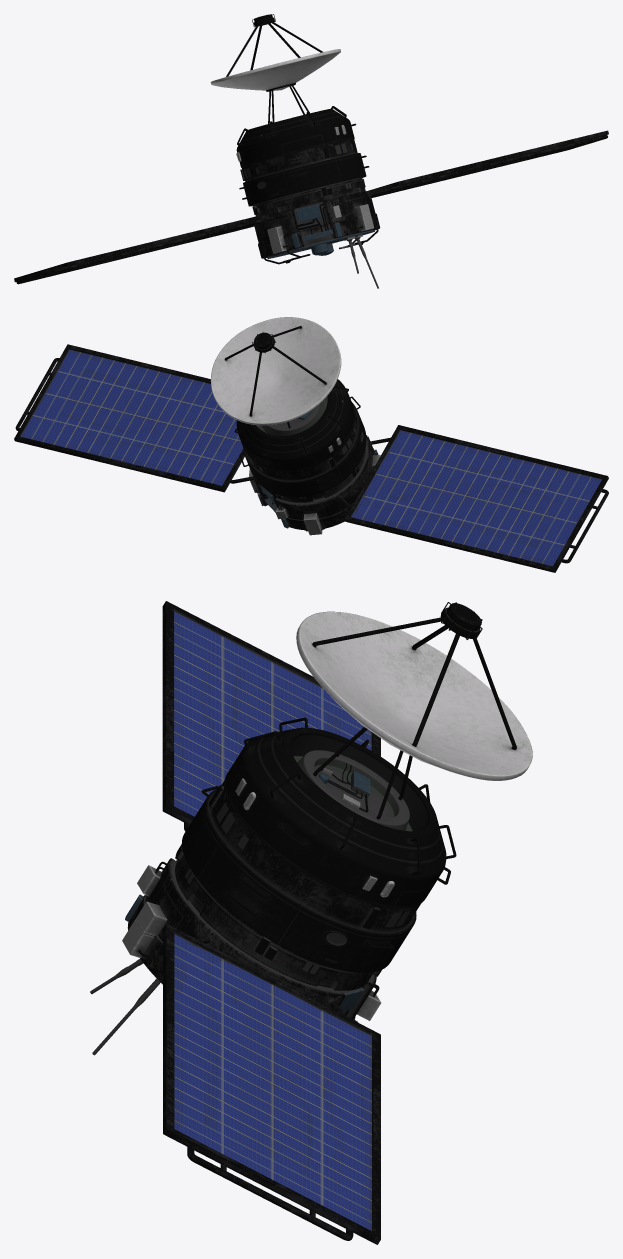
File: voyager.glb
3 renders of one model, top to bottom at view 1: azimuth 30°, elevation 25°; view 2: azimuth 150°, elevation 25°; view 3: azimuth 270°, elevation 25°, orthographic. The views are drawn at different scales.
Visible parts, largest first — view 1: node_id30; view 2: node_id30; view 3: node_id30.
Boxes of the visible parts, x1,y1,x2,y2 form: node_id30: (14, 14, 608, 288); node_id30: (14, 317, 608, 572); node_id30: (90, 601, 532, 1244).
Bounding box in the file's own units: 24.73 × 9.26 × 8.55.
1 material, 1 textured.
